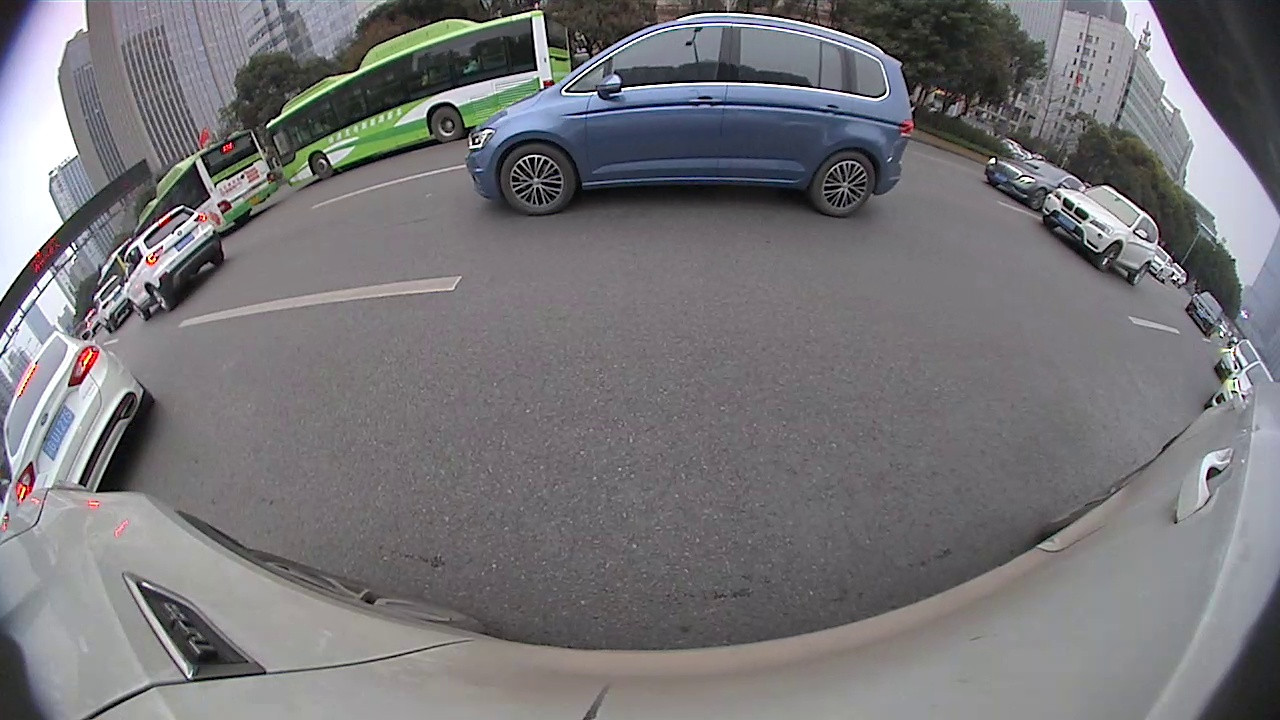bus: (261, 7, 577, 195)
car: (462, 11, 917, 222), (2, 330, 158, 496), (120, 204, 227, 324), (1046, 188, 1161, 285), (980, 150, 1091, 210)
front: (498, 144, 575, 215), (310, 153, 336, 180)
rear: (806, 149, 872, 216), (428, 105, 464, 143)
